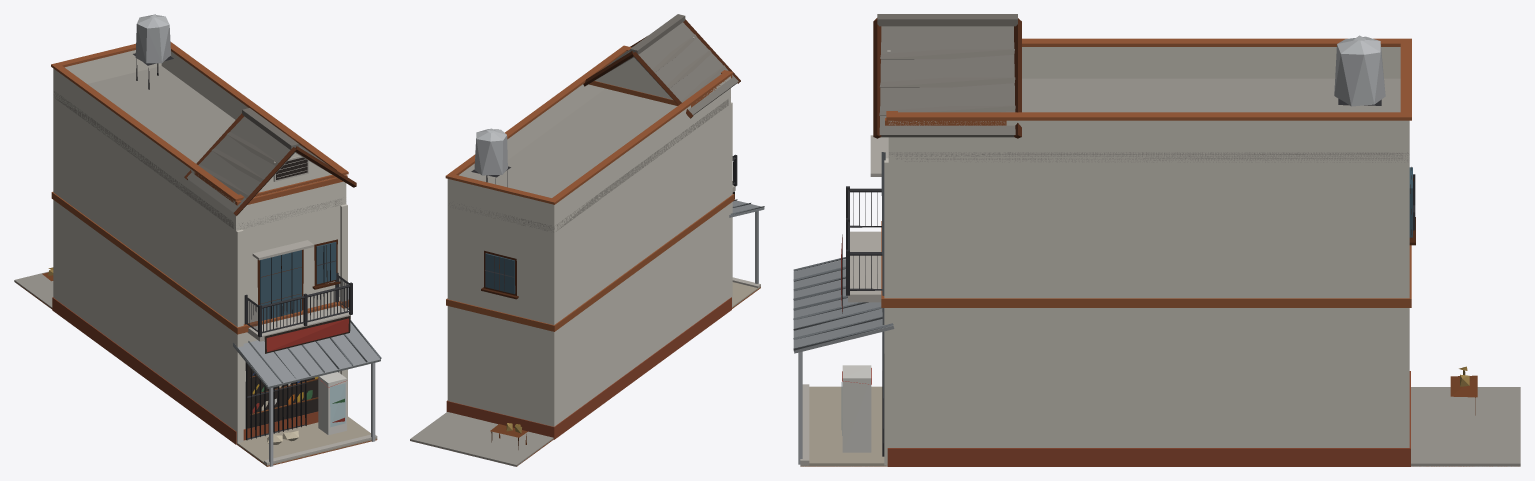
Rendered from bay1_mid2.glb.
The picture shows the model from 3 angles, left to right: view 1: azimuth 30°, elevation 25°; view 2: azimuth 150°, elevation 25°; view 3: azimuth 270°, elevation 25°; orthographic projection. The views are drawn at different scales.
Visible parts, largest first — view 1: body, windows; view 2: body, windows; view 3: body.
Part boxes in pixels (x1=…): body: x1=14, y1=14, x2=381, y2=466; windows: x1=245, y1=157, x2=336, y2=428; body: x1=410, y1=14, x2=764, y2=466; windows: x1=485, y1=253, x2=515, y2=294; body: x1=793, y1=14, x2=1520, y2=466.
Bounding box in the file's own units: 4.47 × 10.03 × 16.06.
